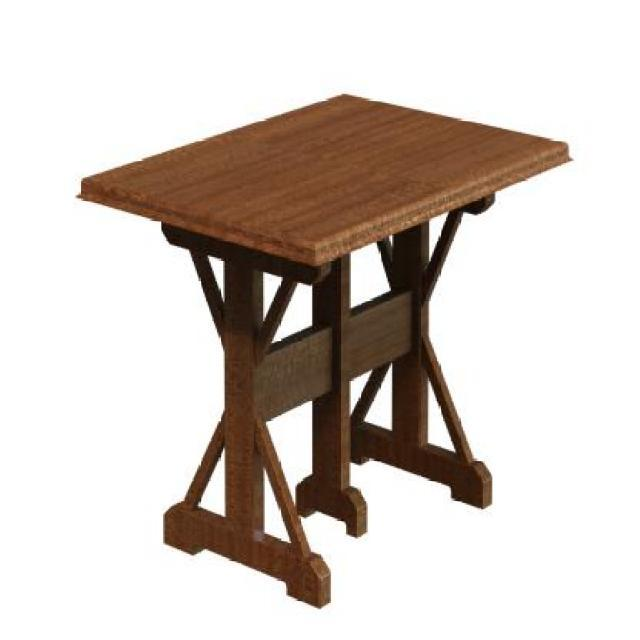mobile-phone: (71, 90, 568, 614)
